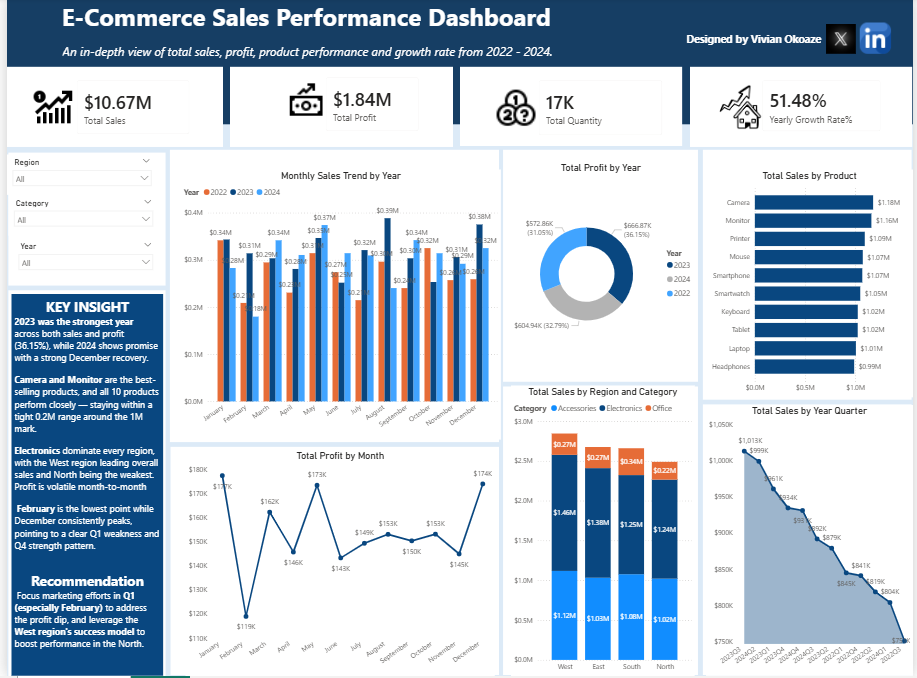

The dashboard page shown, as its layout file describes it:
{"tool":"powerbi","page":{"name":"Page 1","canvas":[1600,1200],"ordinal":0},"visuals":[{"type":"lineChart","fields":{"Category":["ecommerce_sales_data.Month"],"Y":["ecommerce_sales_data.Total Profit"]},"box":[314.9,800,546.8,400],"z":0},{"type":"areaChart","fields":{"Category":["ecommerce_sales_data.Year Quarter"],"Y":["ecommerce_sales_data.Total Sales"]},"box":[1234.2,721.1,365.8,478.9],"z":1000},{"type":"clusteredColumnChart","title":"Monthly Sales Trend by Year","fields":{"Category":["ecommerce_sales_data.Month"],"Y":["ecommerce_sales_data.Total Sales"],"Series":["ecommerce_sales_data.Year"]},"box":[307.5,305,565,477.5],"z":2000},{"type":"clusteredBarChart","title":"Total Sales by Product","fields":{"Category":["ecommerce_sales_data.Product Name"],"Y":["ecommerce_sales_data.Total Sales"]},"box":[1235.4,304.9,365.8,403],"z":3000},{"type":"columnChart","fields":{"Category":["ecommerce_sales_data.Region"],"Series":["ecommerce_sales_data.Category"],"Y":["ecommerce_sales_data.Total Sales"]},"box":[890.2,685.4,324.4,514.6],"z":4000},{"type":"donutChart","fields":{"Category":["ecommerce_sales_data.Year"],"Y":["ecommerce_sales_data.Total Profit"]},"box":[878,292.7,343.9,375.6],"z":5000},{"type":"cardVisual","fields":{"Data":["ecommerce_sales_data.Total Profit"]},"box":[546.1,124.6,198.8,129.9],"z":6000},{"type":"cardVisual","fields":{"Data":["ecommerce_sales_data.Total Quantity"]},"box":[923.7,128.9,252.6,131.6],"z":7000},{"type":"cardVisual","fields":{"Data":["ecommerce_sales_data.Total Sales"]},"box":[106,129.9,233.3,129.9],"z":8000},{"type":"cardVisual","fields":{"Data":["ecommerce_sales_data.Yearly Growth Rate%"]},"box":[1317.6,129.9,243.9,124.6],"z":9000},{"type":"textbox","box":[8.5,525.5,268.1,674.5],"z":10000},{"type":"slicer","fields":{"Values":["ecommerce_sales_data.Region"]},"box":[0,278.4,265.1,71.6],"z":11000},{"type":"slicer","fields":{"Values":["ecommerce_sales_data.Category"]},"box":[2.7,349.9,265.1,71.6],"z":12000},{"type":"slicer","fields":{"Values":["ecommerce_sales_data.Year"]},"box":[10.6,426.8,257.1,68.9],"z":13000},{"type":"image","box":[1242.1,152.6,105.3,81.6],"z":14000},{"type":"image","box":[844.7,155.3,107.9,78.9],"z":15000},{"type":"image","box":[492.1,126.3,71.1,107.9],"z":16000},{"type":"image","box":[39.5,155.3,81.6,76.3],"z":17000},{"type":"image","box":[1505.3,44.7,57.9,55.3],"z":18000},{"type":"image","box":[1436.8,47.4,73.7,52.6],"z":19000},{"type":"textbox","box":[1194.7,55.3,257.9,60.5],"z":20000},{"type":"textbox","box":[92.8,58.3,1110.8,58.3],"z":21000},{"type":"textbox","box":[0,0,1057.8,87.5],"z":22000}]}

Visuals, with their boxes in screenshot pixels (x1, y1, x2, y2), scaled from the page's 1600x1200 canvas onto the 917x678 screenshot:
lineChart - ecommerce_sales_data.Month x ecommerce_sales_data.Total Profit: BBox(180, 452, 494, 677)
areaChart - ecommerce_sales_data.Year Quarter x ecommerce_sales_data.Total Sales: BBox(707, 407, 916, 677)
"Monthly Sales Trend by Year" clusteredColumnChart: BBox(176, 172, 500, 442)
"Total Sales by Product" clusteredBarChart: BBox(708, 172, 916, 400)
columnChart - ecommerce_sales_data.Region x ecommerce_sales_data.Category: BBox(510, 387, 696, 677)
donutChart - ecommerce_sales_data.Year x ecommerce_sales_data.Total Profit: BBox(503, 165, 700, 378)
cardVisual - ecommerce_sales_data.Total Profit: BBox(313, 70, 427, 144)
cardVisual - ecommerce_sales_data.Total Quantity: BBox(529, 73, 674, 147)
cardVisual - ecommerce_sales_data.Total Sales: BBox(61, 73, 194, 147)
cardVisual - ecommerce_sales_data.Yearly Growth Rate%: BBox(755, 73, 895, 144)
textbox: BBox(5, 297, 159, 677)
slicer - ecommerce_sales_data.Region: BBox(0, 157, 152, 198)
slicer - ecommerce_sales_data.Category: BBox(2, 198, 153, 238)
slicer - ecommerce_sales_data.Year: BBox(6, 241, 153, 280)
image: BBox(712, 86, 772, 132)
image: BBox(484, 88, 546, 132)
image: BBox(282, 71, 323, 132)
image: BBox(23, 88, 69, 131)
image: BBox(863, 25, 896, 56)
image: BBox(823, 27, 866, 56)
textbox: BBox(685, 31, 833, 65)
textbox: BBox(53, 33, 690, 66)
textbox: BBox(0, 0, 606, 49)
